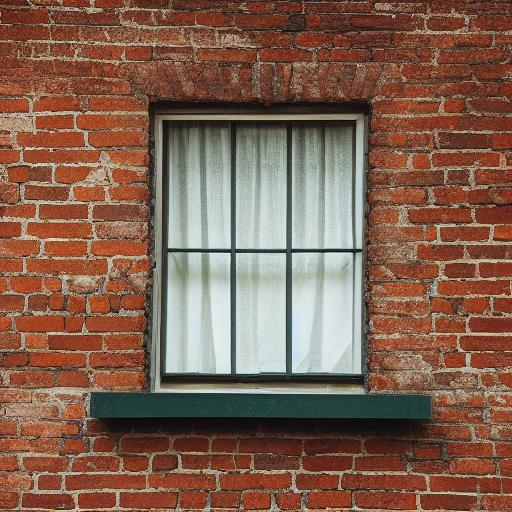Window: (90, 93, 432, 424)
